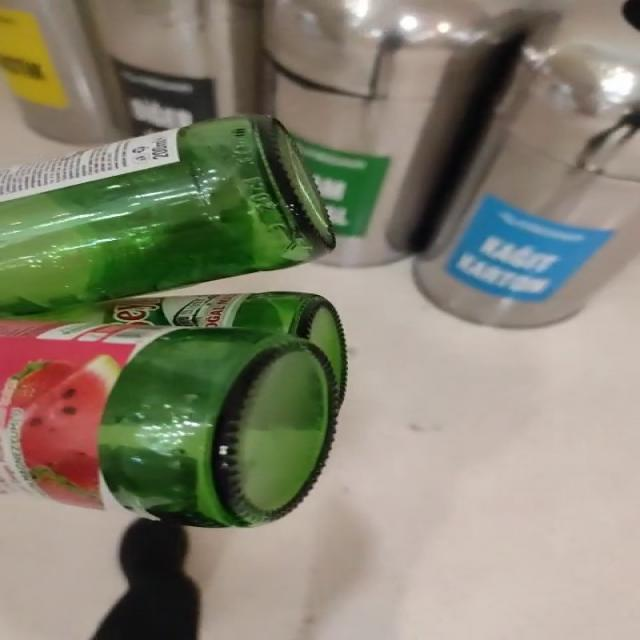glass: (0, 116, 347, 528)
